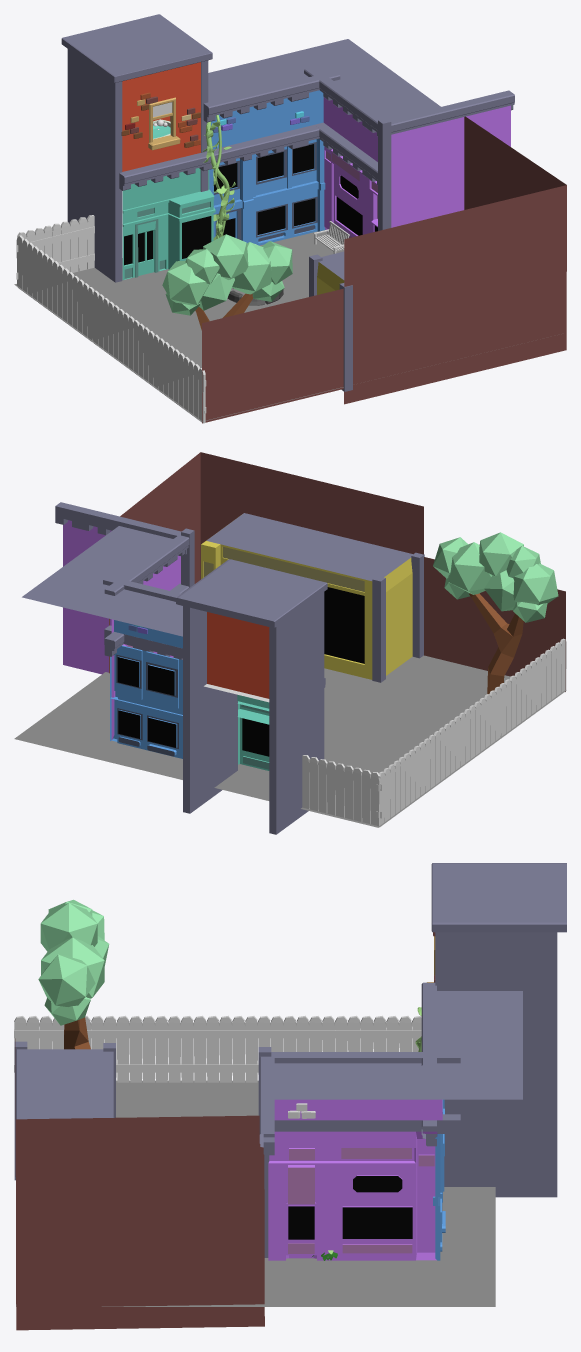
File: gamejam.glb
The picture shows the model from 3 angles, top to bottom: view 1: azimuth 30°, elevation 25°; view 2: azimuth 150°, elevation 25°; view 3: azimuth 270°, elevation 25°; orthographic projection. The views are drawn at different scales.
Parts seen in each view (by area): view 1: Plane.014, Plane.004, Cube.064, Cube.063, Plane.002, Plane.011, Plane, Plane.009, Cube.050, Plane.006, Cube.056, Plane.001 (+19 smaller); view 2: Plane.004, Plane.009, Plane.014, Cube.063, Cube.064, Cube.070, Plane.002, Cube.050, Cube.056, Plane.006, Cube.067, Plane.011 (+20 smaller); view 3: Plane.014, Plane.001, Cube.070, Plane.009, Cube.064, Cube.050, Cube.056, Plane.004, Cube.049, Plane.010, Cube.065, Cube.058 (+11 smaller).
Boxes of the visible parts, bbox=[...] form: Plane.014: bbox=[344, 116, 566, 404]; Plane.004: bbox=[202, 251, 344, 423]; Cube.064: bbox=[17, 235, 205, 423]; Cube.063: bbox=[67, 49, 122, 282]; Plane.002: bbox=[209, 138, 325, 245]; Plane.011: bbox=[391, 105, 510, 227]; Plane: bbox=[122, 168, 215, 279]; Plane.009: bbox=[14, 231, 344, 421]; Cube.050: bbox=[61, 14, 212, 82]; Plane.006: bbox=[122, 62, 200, 171]; Cube.056: bbox=[287, 39, 440, 119]; Plane.001: bbox=[324, 146, 377, 237]; Plane.004: bbox=[201, 513, 565, 691]; Plane.009: bbox=[14, 655, 566, 827]; Plane.014: bbox=[109, 452, 423, 673]; Cube.063: bbox=[269, 592, 324, 834]; Cube.064: bbox=[379, 638, 566, 826]; Cube.070: bbox=[183, 606, 237, 813]; Plane.002: bbox=[110, 645, 182, 758]; Cube.050: bbox=[176, 559, 327, 627]; Cube.056: bbox=[22, 526, 172, 612]; Plane.006: bbox=[207, 612, 269, 698]; Cube.067: bbox=[302, 755, 380, 826]; Plane.011: bbox=[63, 520, 111, 674]; Plane.014: bbox=[15, 1038, 264, 1330]; Plane.001: bbox=[268, 1131, 437, 1260]; Cube.070: bbox=[435, 932, 557, 1197]; Plane.009: bbox=[16, 1080, 495, 1306]; Cube.064: bbox=[14, 1015, 421, 1082]; Cube.050: bbox=[431, 863, 566, 932]; Cube.056: bbox=[274, 1061, 522, 1099]; Plane.004: bbox=[17, 1049, 113, 1119]; Cube.049: bbox=[431, 991, 522, 1065]; Plane.010: bbox=[274, 1099, 442, 1120]; Cube.065: bbox=[14, 1029, 421, 1038]; Cube.058: bbox=[274, 1114, 460, 1141].
Size of the model in its own units: 16.7 by 8.55 by 14.91.
